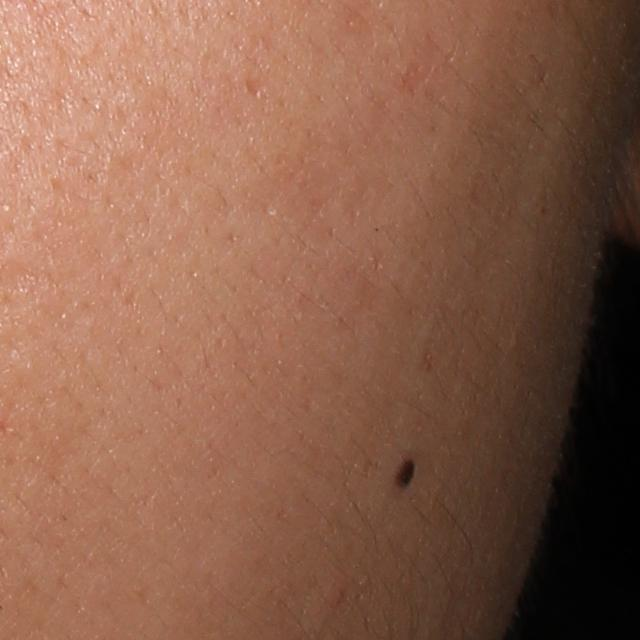atrophic_scar: (242, 77, 263, 97)
nevus: (390, 456, 419, 485)
